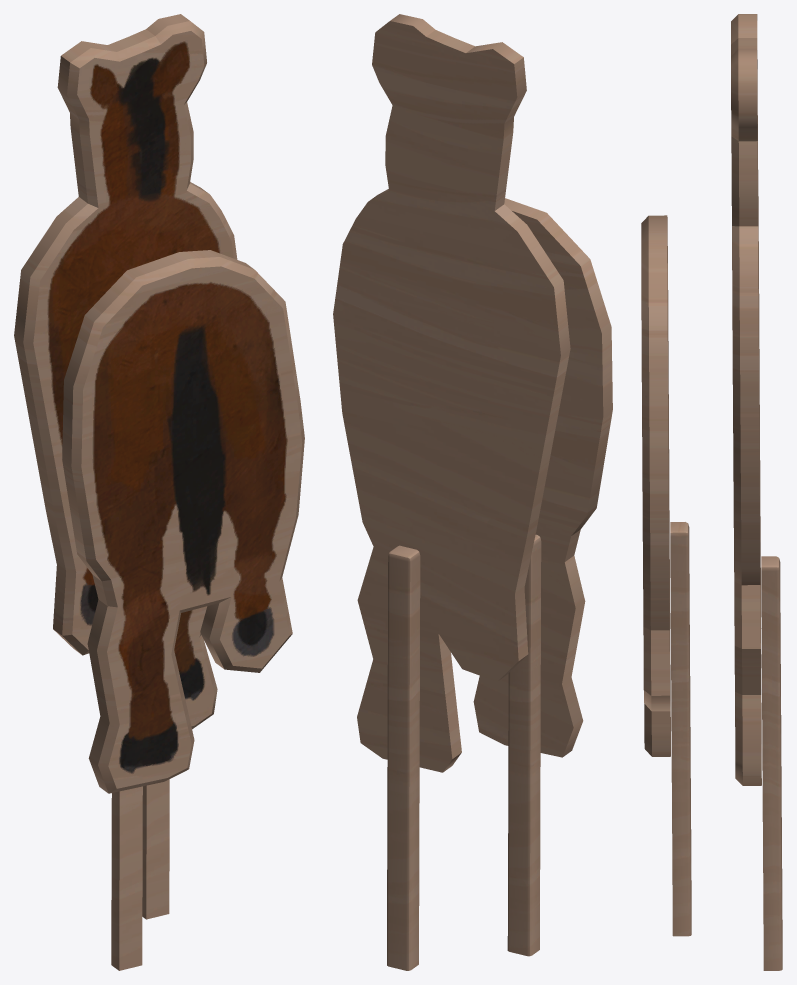
The model's file is horse cutout.glb.
3 views of the same model, side by side, from view 1: azimuth 30°, elevation 25°; view 2: azimuth 150°, elevation 25°; view 3: azimuth 270°, elevation 25° (orthographic). The views are drawn at different scales.
Parts seen in each view (by area): view 1: Horse_Butt_Front, Horse_Butt_Back; view 2: Horse_Butt_Back, Horse_Butt_Front; view 3: Horse_Butt_Back, Horse_Butt_Front.
Boxes of the visible parts, x1=… form: Horse_Butt_Front: x1=62, y1=250, x2=304, y2=970; Horse_Butt_Back: x1=14, y1=14, x2=237, y2=919; Horse_Butt_Back: x1=333, y1=14, x2=570, y2=970; Horse_Butt_Front: x1=473, y1=198, x2=612, y2=956; Horse_Butt_Back: x1=731, y1=14, x2=782, y2=970; Horse_Butt_Front: x1=641, y1=215, x2=691, y2=936.
Size of the model in its own units: 0.8118 by 2.95 by 0.413.
Materials: 1 (1 with a texture image).
